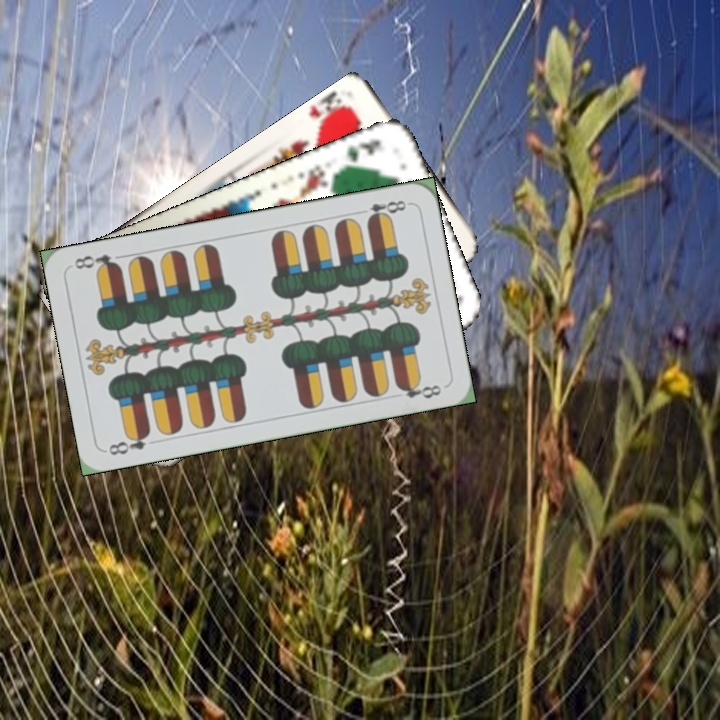E8: (353, 196, 412, 224), (104, 427, 153, 458)
GK: (335, 134, 384, 175)
HK: (311, 90, 356, 136)
